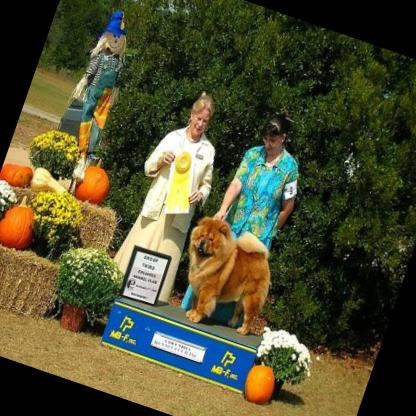chow: (160, 208, 289, 346)
